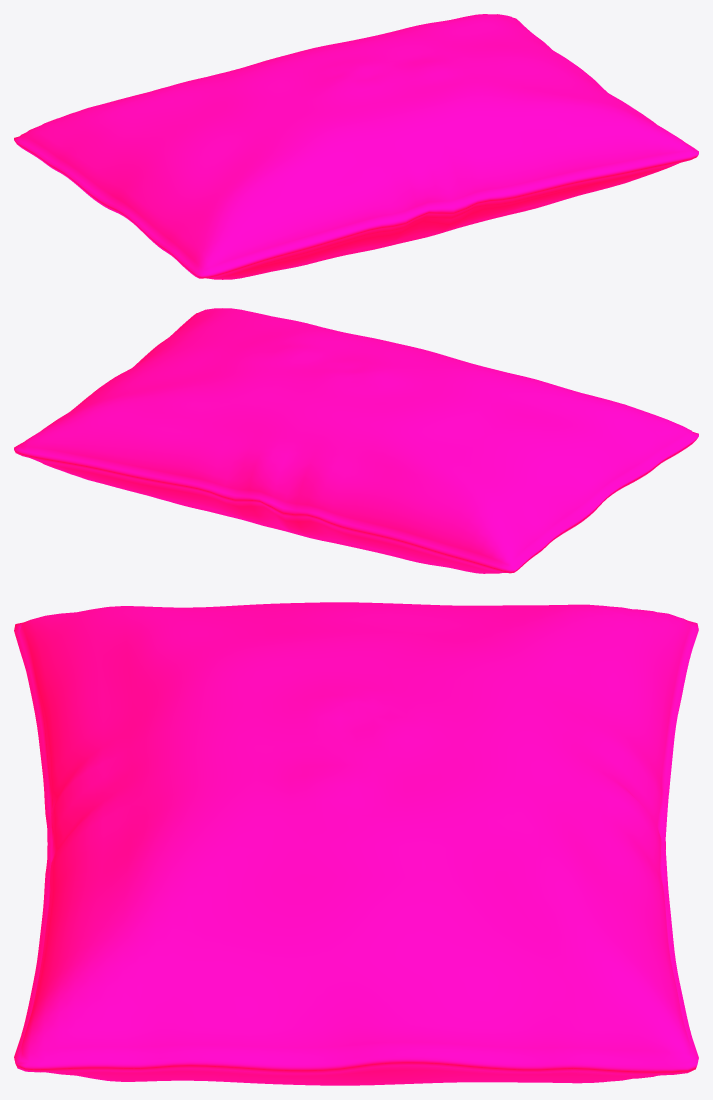
Rendered from 桃まくら.fbx.
3 views of the same model, one above another, from view 1: azimuth 30°, elevation 25°; view 2: azimuth 150°, elevation 25°; view 3: azimuth 270°, elevation 25° (orthographic). The views are drawn at different scales.
Parts seen in each view (by area): view 1: 平面; view 2: 平面; view 3: 平面.
Boxes of the visible parts, <box> form: 平面: <box>14,14,698,279</box>; 平面: <box>14,308,698,573</box>; 平面: <box>14,602,698,1085</box>.
Size of the model in its own units: 256 by 65.74 by 166.
